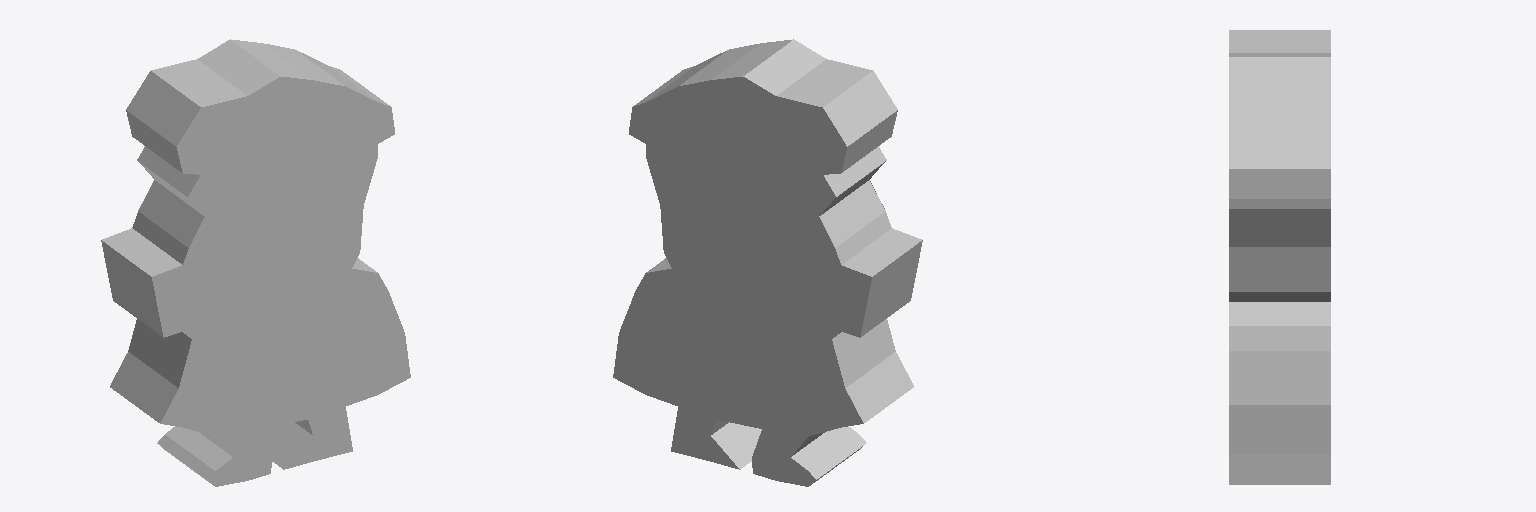
File: chefhog.obj
3 renders of one model, left to right at view 1: azimuth 30°, elevation 25°; view 2: azimuth 150°, elevation 25°; view 3: azimuth 270°, elevation 25°, orthographic.
Visible parts, largest first — view 1: chefhog; view 2: chefhog; view 3: chefhog.
Boxes of the visible parts, x1,y1,x2,y2 form: chefhog: [101, 39, 410, 486]; chefhog: [613, 39, 922, 486]; chefhog: [1229, 30, 1330, 484].
Size of the model in its own units: 0.5911 by 0.8639 by 0.2.